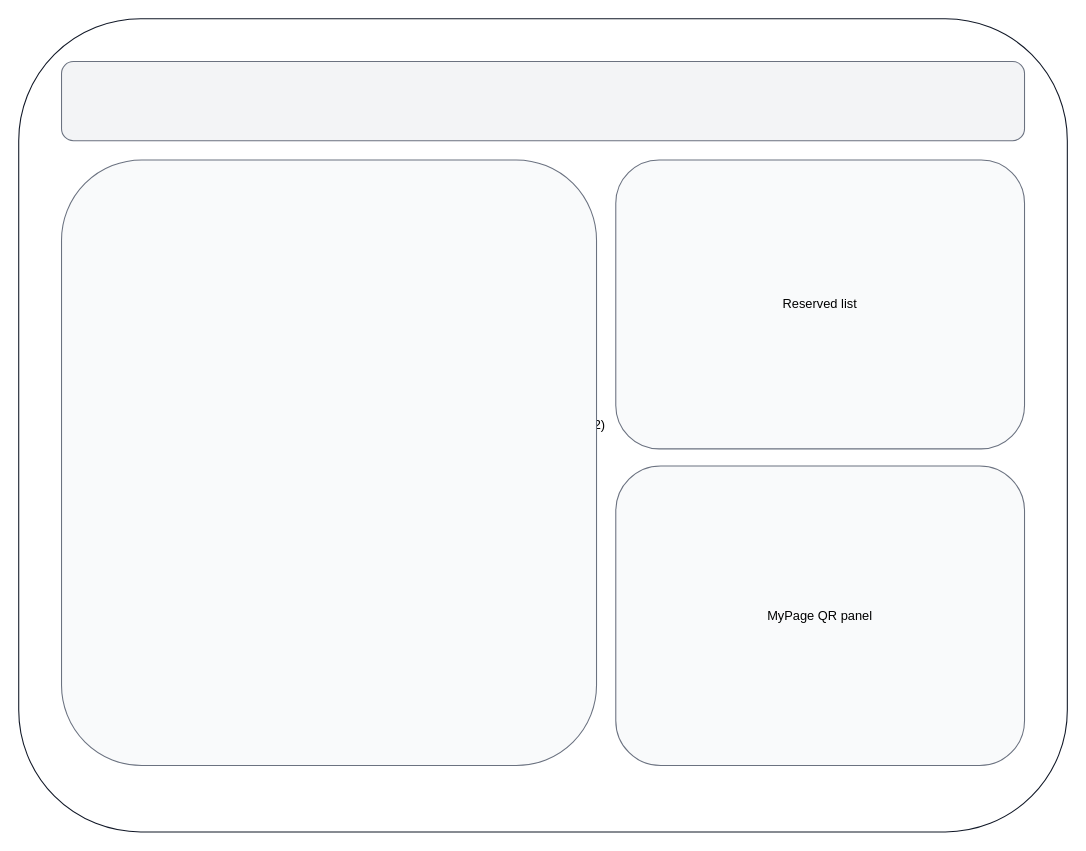
The diagram is 1086 pixels wide and 851 high, and some of its shapes have lost their labels. The shapes that lost their labels are listed below. From the top down, each one's box as (x1, y1, x2, y2) in pixels, then its label:
(60, 60, 1025, 141): Header / Guest badge / Actions
(60, 159, 597, 766): Session cards list
